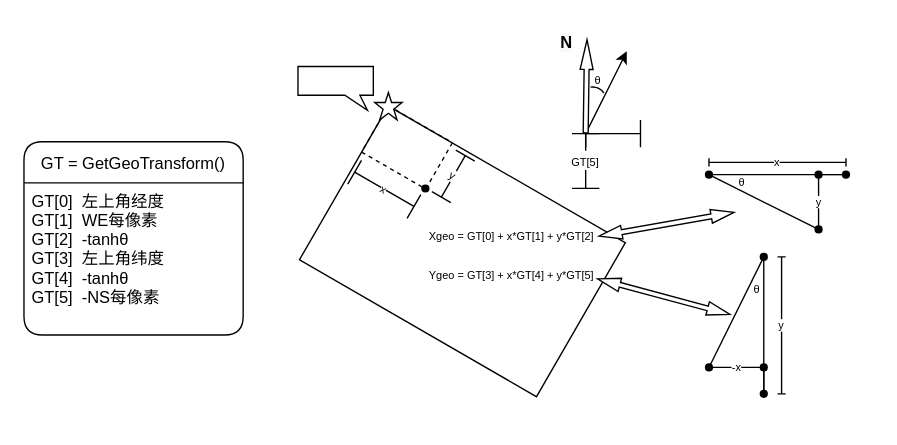
This 897x445 diagram has some shape labels left out. The shapes that lost their labels are listed below. From the top down, each one's centre as x and y in pixels, then its label:
(x=335, y=87): (GT[0], GT[3])
(x=612, y=133): GT[1]
